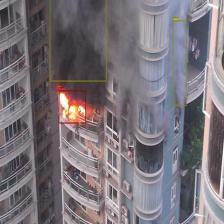fire: (58, 90, 86, 124)
smoke: (50, 0, 106, 81), (172, 20, 186, 106)
